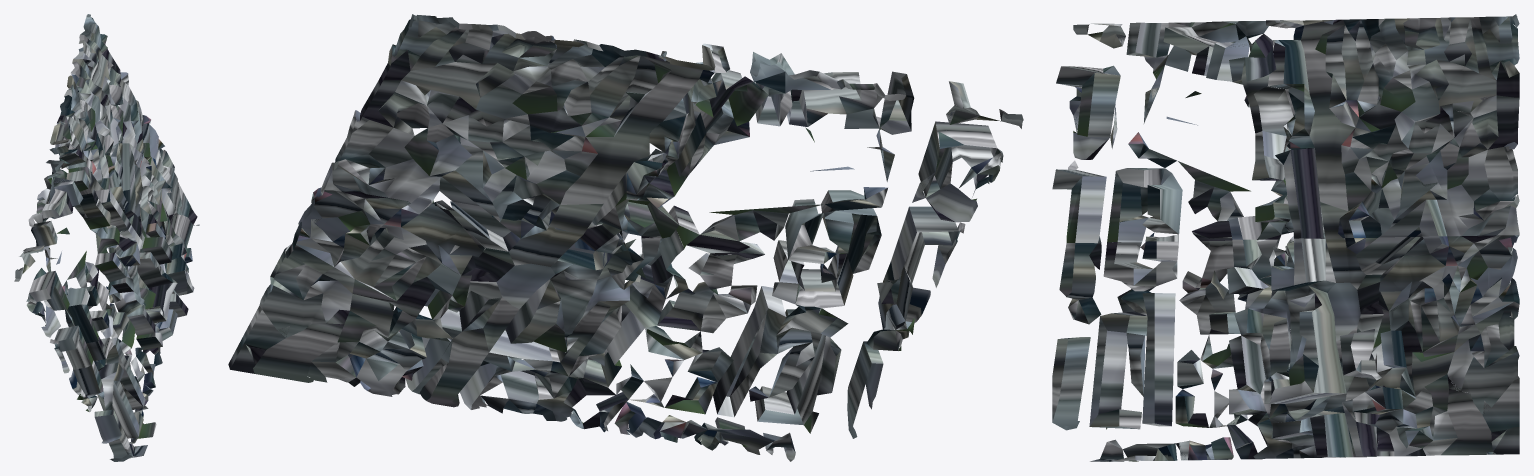
The picture shows the model from 3 angles, left to right: view 1: azimuth 30°, elevation 25°; view 2: azimuth 150°, elevation 25°; view 3: azimuth 270°, elevation 25°; orthographic projection. The views are drawn at different scales.
Parts seen in each view (by area): view 1: node_3043627270436170_mesh0, node_3043627270436170_mesh1; view 2: node_3043627270436170_mesh0, node_3043627270436170_mesh1; view 3: node_3043627270436170_mesh0, node_3043627270436170_mesh1.
Part boxes in pixels (x1,y1,x2,y2): node_3043627270436170_mesh0: [14, 14, 199, 461]; node_3043627270436170_mesh1: [22, 59, 192, 455]; node_3043627270436170_mesh0: [228, 14, 1023, 461]; node_3043627270436170_mesh1: [279, 34, 1000, 452]; node_3043627270436170_mesh0: [1052, 14, 1519, 461]; node_3043627270436170_mesh1: [1069, 25, 1519, 460].
Bounding box in the file's own units: 578 × 568 × 466.
Materials: 2 (2 with a texture image).
